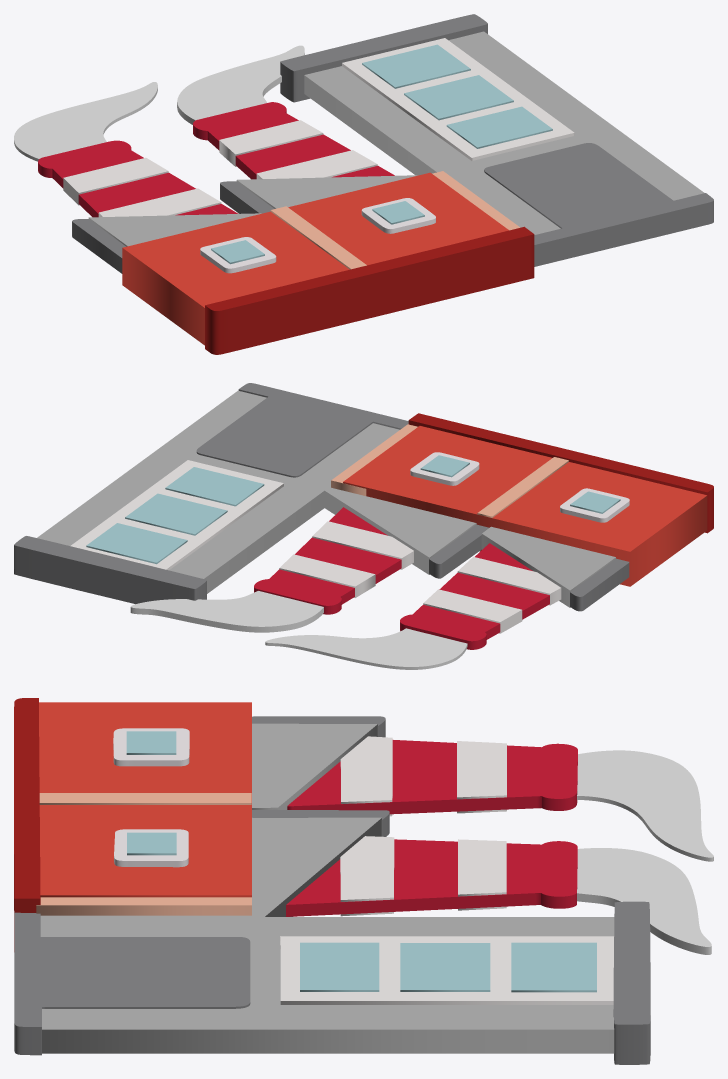
The model's file is emoji_u1f3ed.glb.
3 views of the same model, one above another, from view 1: azimuth 30°, elevation 25°; view 2: azimuth 150°, elevation 25°; view 3: azimuth 270°, elevation 25° (orthographic). The views are drawn at different scales.
Parts seen in each view (by area): view 1: emoji_u1f3ed; view 2: emoji_u1f3ed; view 3: emoji_u1f3ed.
Part boxes in pixels (x1=…): emoji_u1f3ed: x1=14, y1=14, x2=713, y2=354; emoji_u1f3ed: x1=14, y1=383, x2=713, y2=669; emoji_u1f3ed: x1=14, y1=698, x2=713, y2=1064.
Size of the model in its own units: 0.034 by 0.0032 by 0.0315.
